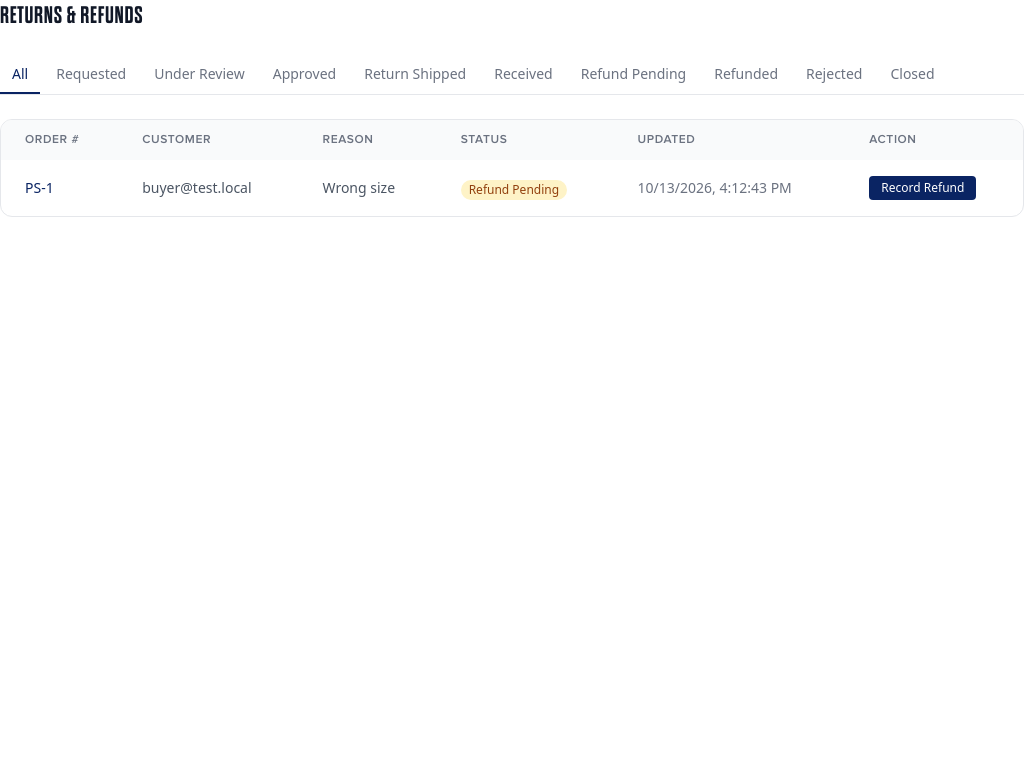
Test: AdminReturns — adjustment modes › requires a reason before adjusting
Step 1. Click the button "Record Refund" → (923, 188), box [869, 176, 976, 200]
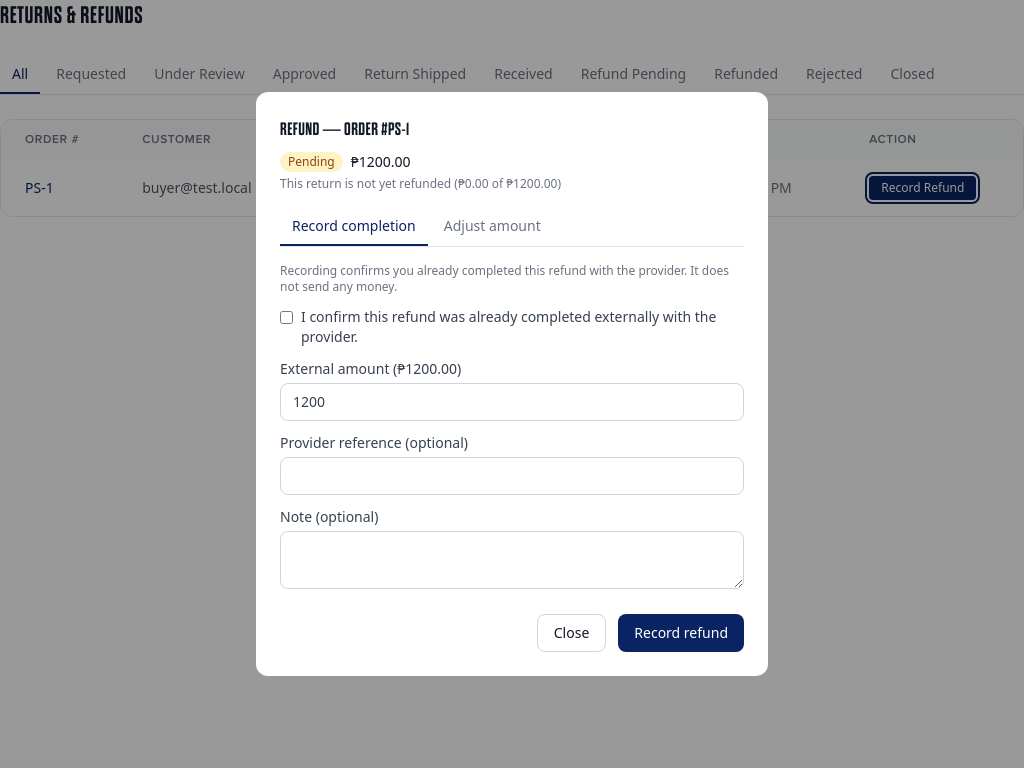
Result: the heading "Refund — Order #PS-1" is shown at [280, 119, 410, 140]
Step 2. Click the button "Adjust amount" → (492, 227), box [432, 208, 553, 246]
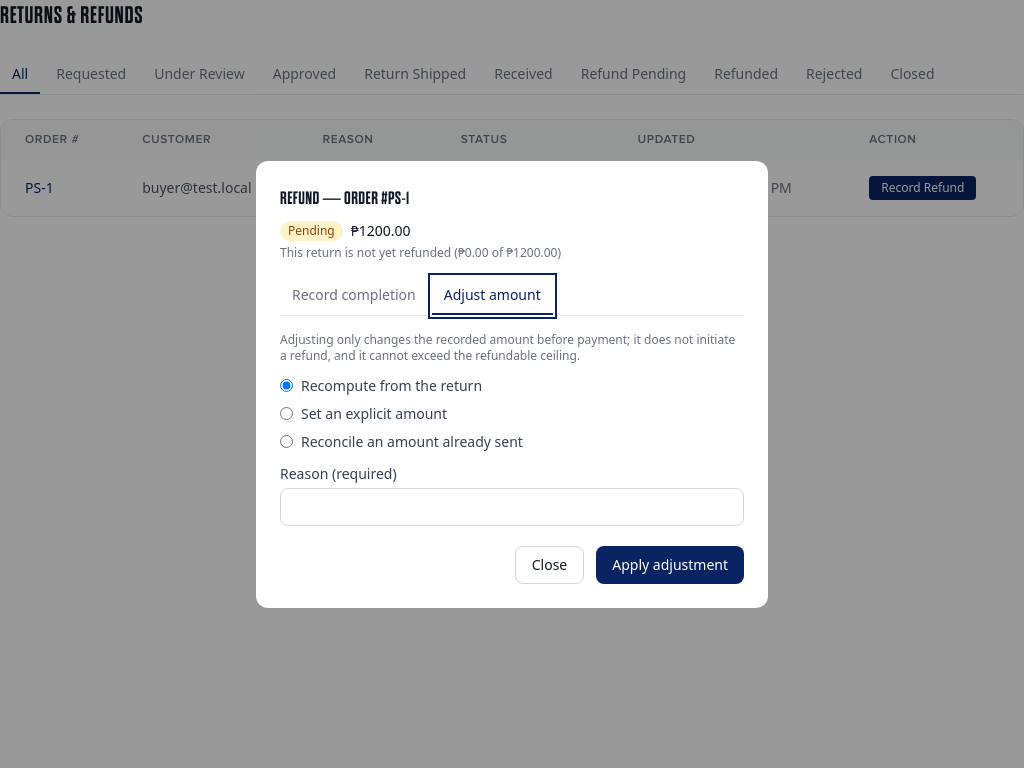
Step 3. Click the button "Apply adjustment" → (670, 564), box [596, 546, 744, 584]
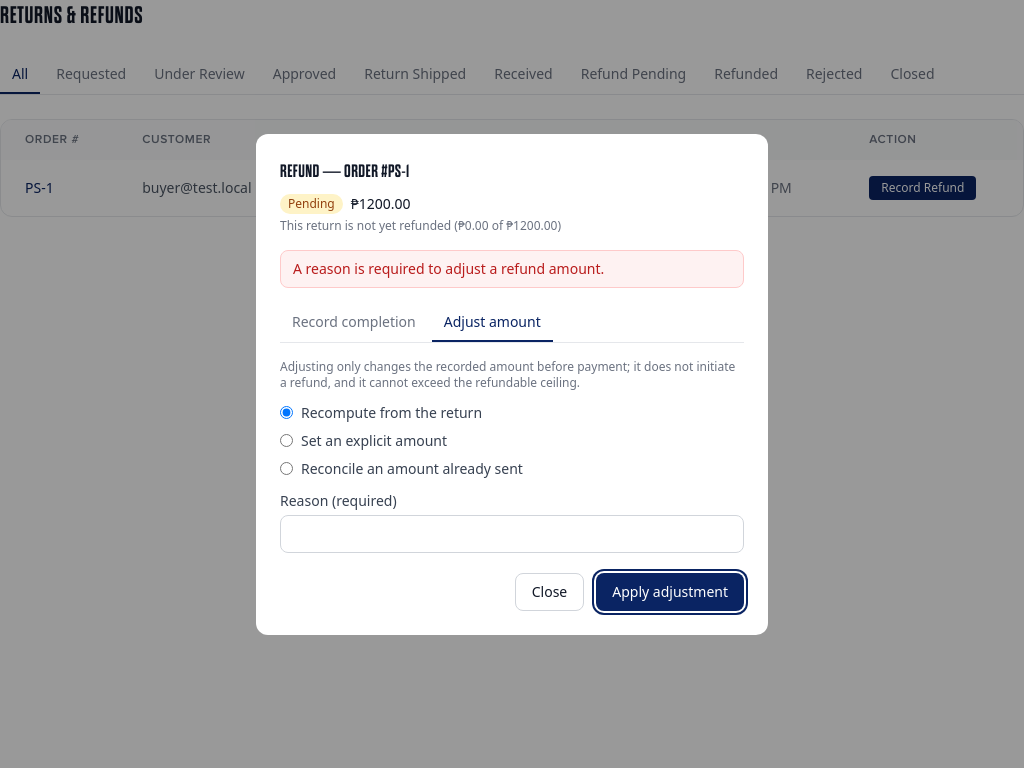
Result: the message shows "reason is required" at [293, 258, 604, 278]
